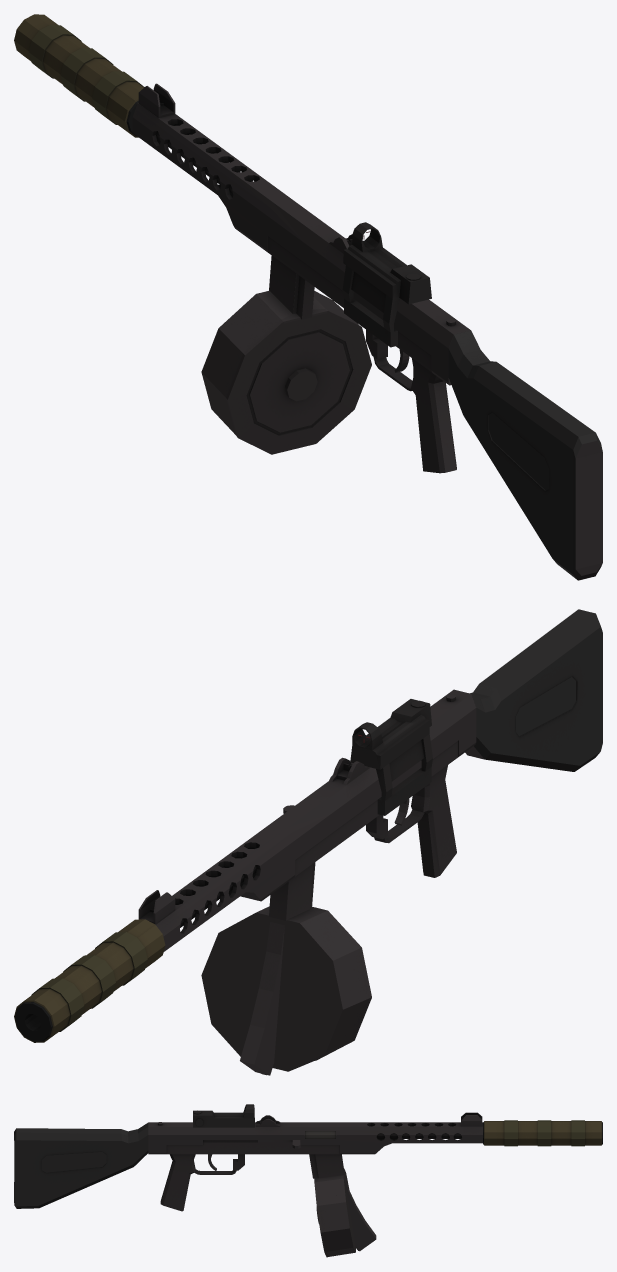
File: Rapid_SMG.fbx
3 views of the same model, one above another, from view 1: azimuth 30°, elevation 25°; view 2: azimuth 150°, elevation 25°; view 3: azimuth 270°, elevation 25° (orthographic). The views are drawn at different scales.
Visible parts, largest first — view 1: Body, Magazine_Drum, Stock_full, Suppressor_Cloth, Kobra; view 2: Body, Magazine_Drum, Stock_full, Suppressor_Cloth, Kobra, Magazine; view 3: Body, Stock_full, Suppressor_Cloth, Magazine_Drum, Kobra, Magazine.
Part boxes in pixels (left/top/right/bottom): Body: left=132, top=83, right=470, bottom=473; Magazine_Drum: left=201, top=290, right=371, bottom=454; Stock_full: left=448, top=330, right=602, bottom=580; Suppressor_Cloth: left=14, top=14, right=144, bottom=137; Kobra: left=342, top=222, right=431, bottom=347; Body: left=138, top=689, right=476, bottom=951; Magazine_Drum: left=201, top=906, right=371, bottom=1071; Stock_full: left=465, top=609, right=602, bottom=771; Suppressor_Cloth: left=14, top=919, right=165, bottom=1042; Kobra: left=350, top=699, right=432, bottom=815; Magazine: left=240, top=922, right=284, bottom=1075; Body: left=148, top=1112, right=482, bottom=1211; Stock_full: left=14, top=1123, right=148, bottom=1208; Suppressor_Cloth: left=483, top=1120, right=602, bottom=1146; Magazine_Drum: left=314, top=1168, right=355, bottom=1257; Kobra: left=193, top=1104, right=254, bottom=1127; Magazine: left=344, top=1175, right=376, bottom=1251.
Bounding box in the file's own units: 0.9153 × 1.68 × 6.11.
